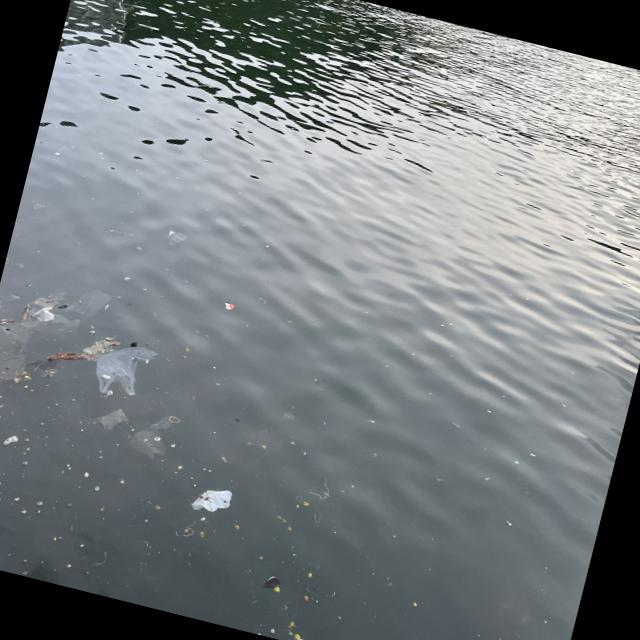plastic bag: (91, 340, 156, 402)
